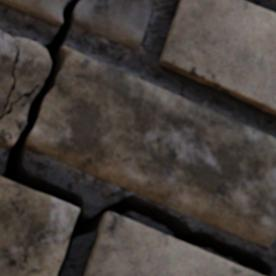brick: (159, 0, 275, 115), (84, 210, 264, 275), (0, 175, 79, 275)
broken_brick: (26, 46, 275, 246), (0, 30, 51, 146), (73, 0, 154, 48), (0, 0, 68, 26)
crack: (2, 0, 273, 275), (0, 47, 39, 118)
